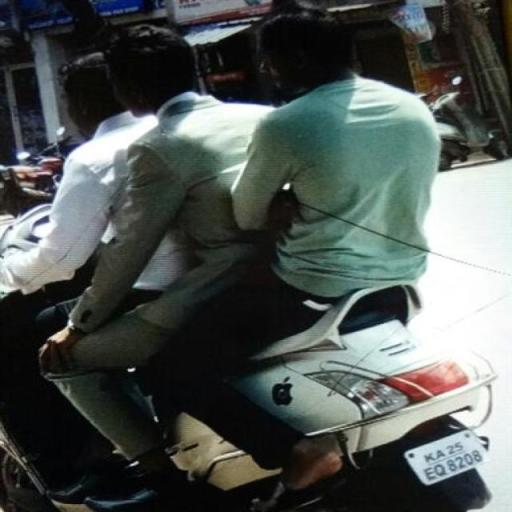tripple riding: (1, 0, 468, 282)
